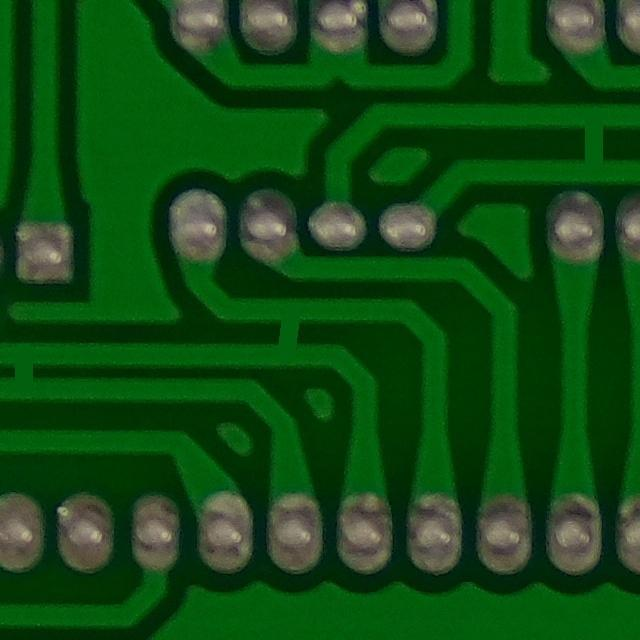short: (540, 91, 640, 189), (245, 286, 330, 370), (0, 332, 64, 404)
